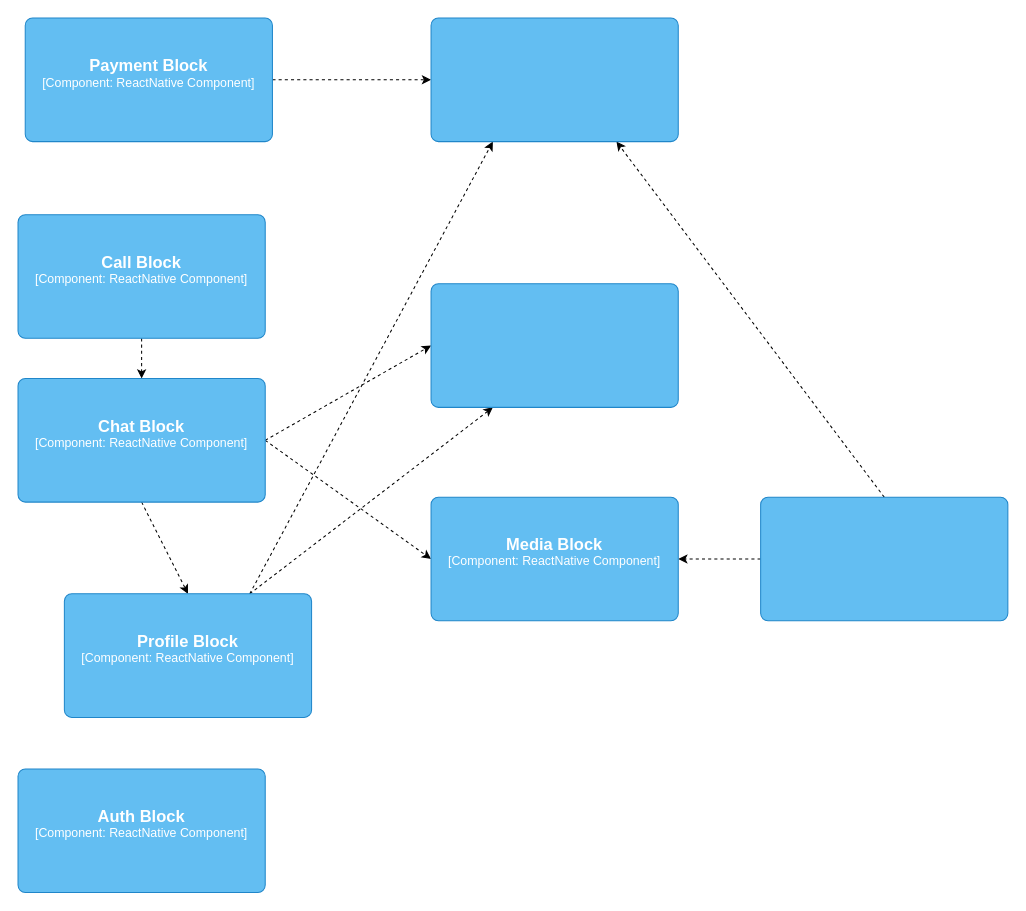
Image size: 1026x911. Some labels were removed from this diagram. The shapes that lost their labels are listed below. From the top down, each one's box as (x1, y1, x2, y2) in pixels, then its label:
(430, 17, 678, 142): Subscription Block [Component: ReactNative Component]
(430, 283, 678, 407): Gift Block [Component: ReactNative Component]
(760, 496, 1008, 621): Chanel Block [Component: ReactNative Component]
